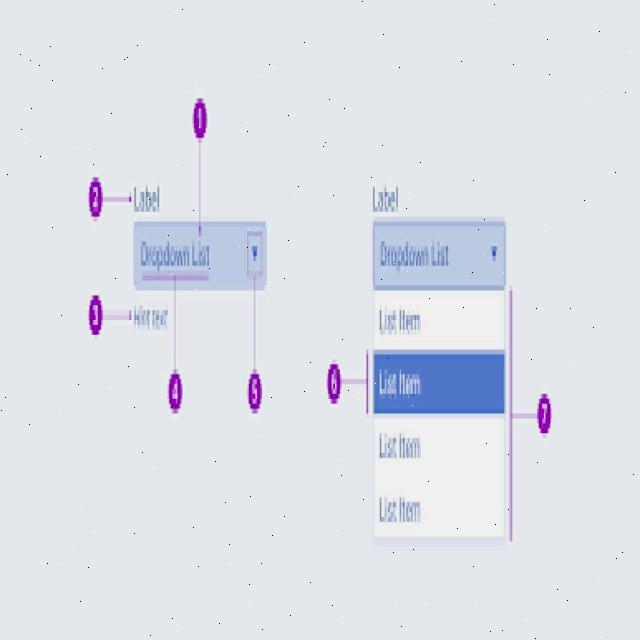dropdownMenu: (375, 221, 505, 536), (134, 223, 266, 290)
label: (363, 178, 406, 217), (131, 178, 168, 218), (132, 298, 172, 334)
menuItem: (372, 350, 504, 414), (372, 298, 433, 344), (372, 484, 426, 532), (374, 425, 424, 467)
